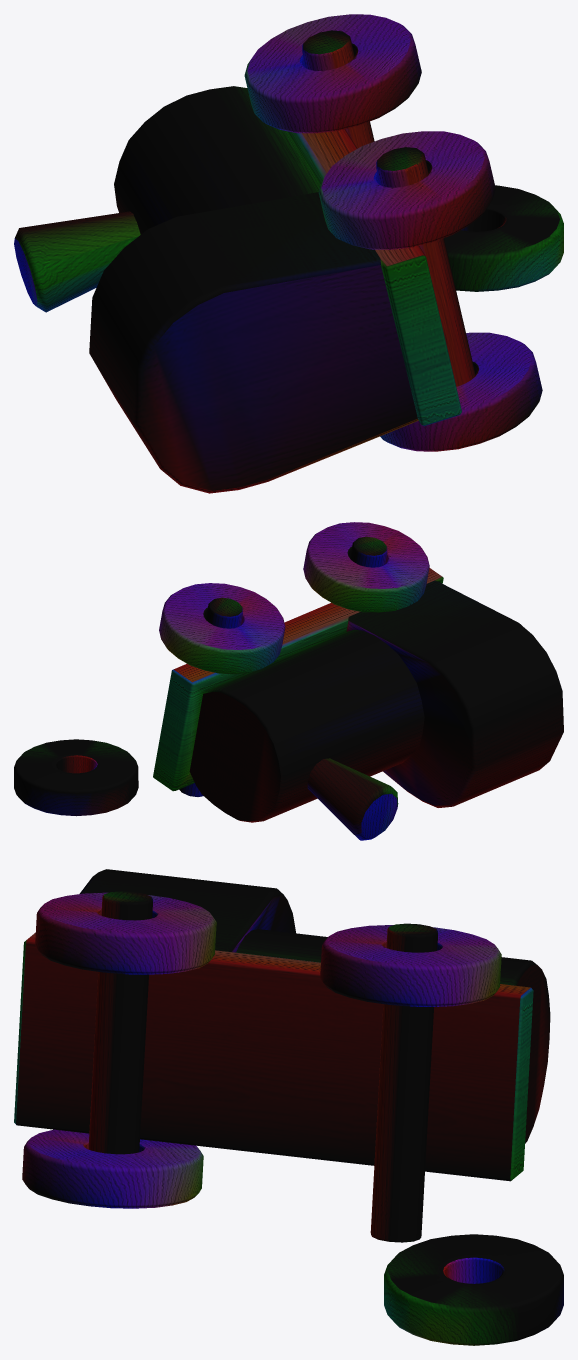
File: Train.glb
3 renders of one model, top to bottom at view 1: azimuth 30°, elevation 25°; view 2: azimuth 150°, elevation 25°; view 3: azimuth 270°, elevation 25°, orthographic. The views are drawn at different scales.
Visible parts, largest first — view 1: Train.001; view 2: Train.001; view 3: Train.001.
Boxes of the visible parts, bbox=[...] form: Train.001: bbox=[14, 14, 563, 493]; Train.001: bbox=[14, 522, 563, 840]; Train.001: bbox=[14, 869, 563, 1345].
Bounding box in the file's own units: 4.59 × 2.12 × 3.6.
Materials: 1 (1 with a texture image).
